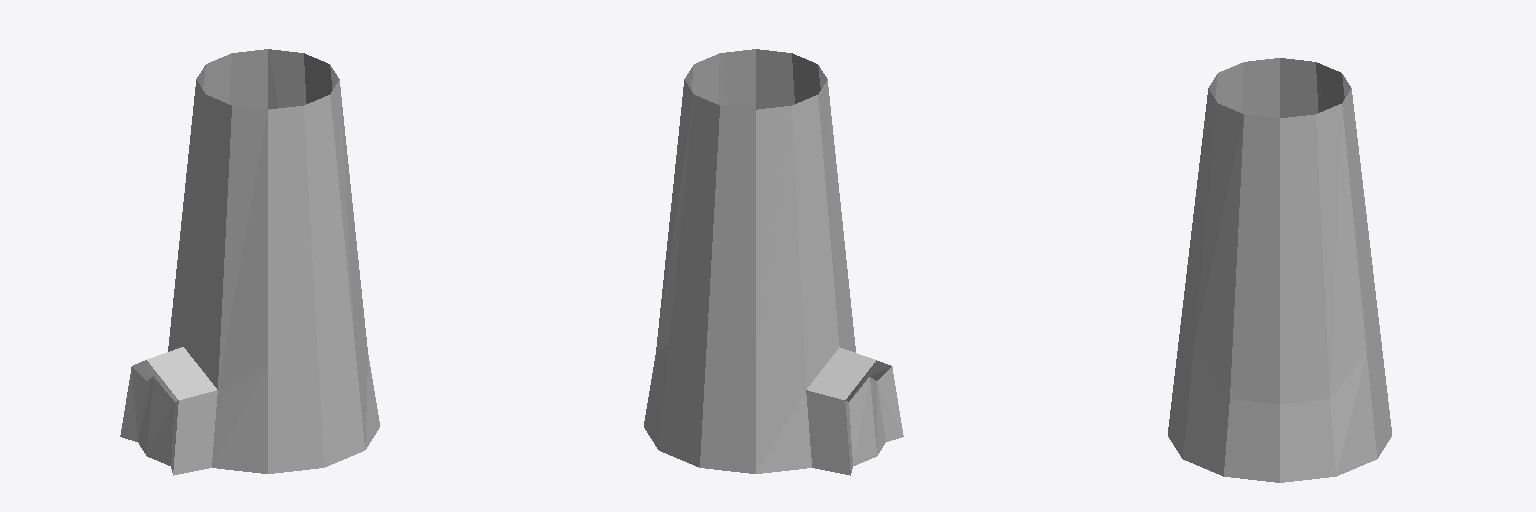
Rendered from tower.obj.
3 views of the same model, side by side, from view 1: azimuth 30°, elevation 25°; view 2: azimuth 150°, elevation 25°; view 3: azimuth 270°, elevation 25° (orthographic).
Size of the model in its own units: 10.35 by 15.71 by 9.22.